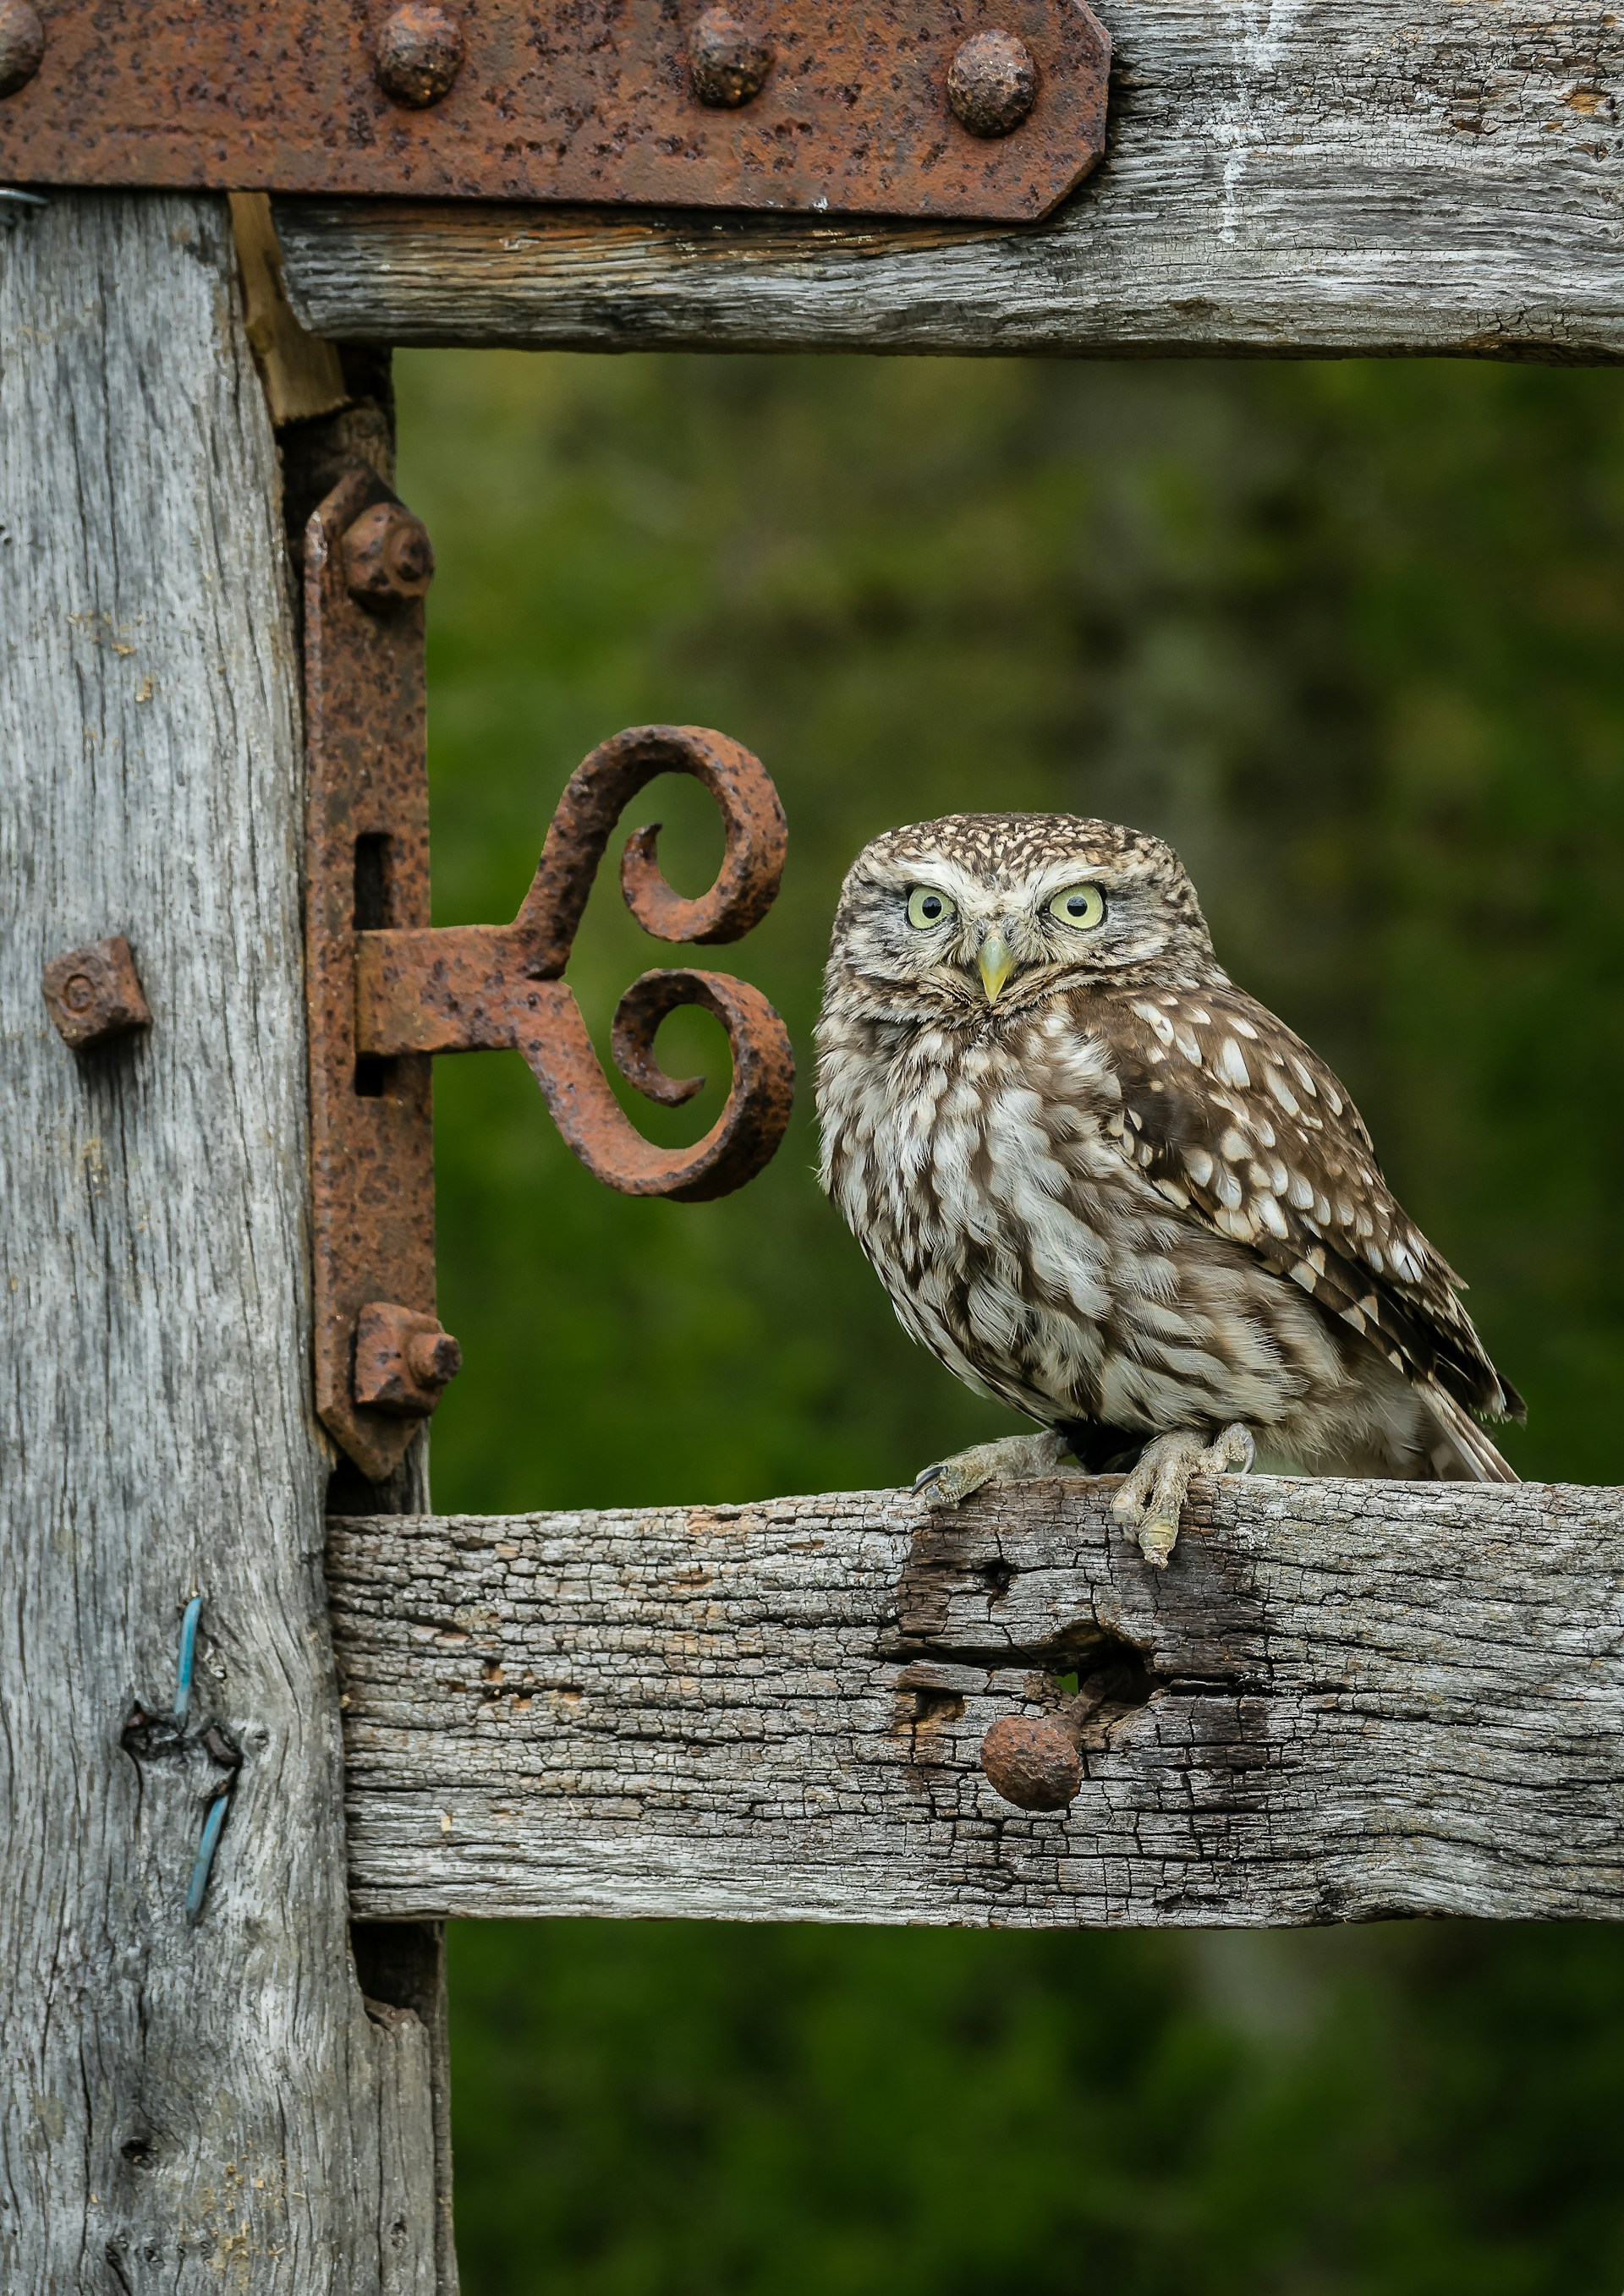owl: (770, 782, 1534, 1581)
